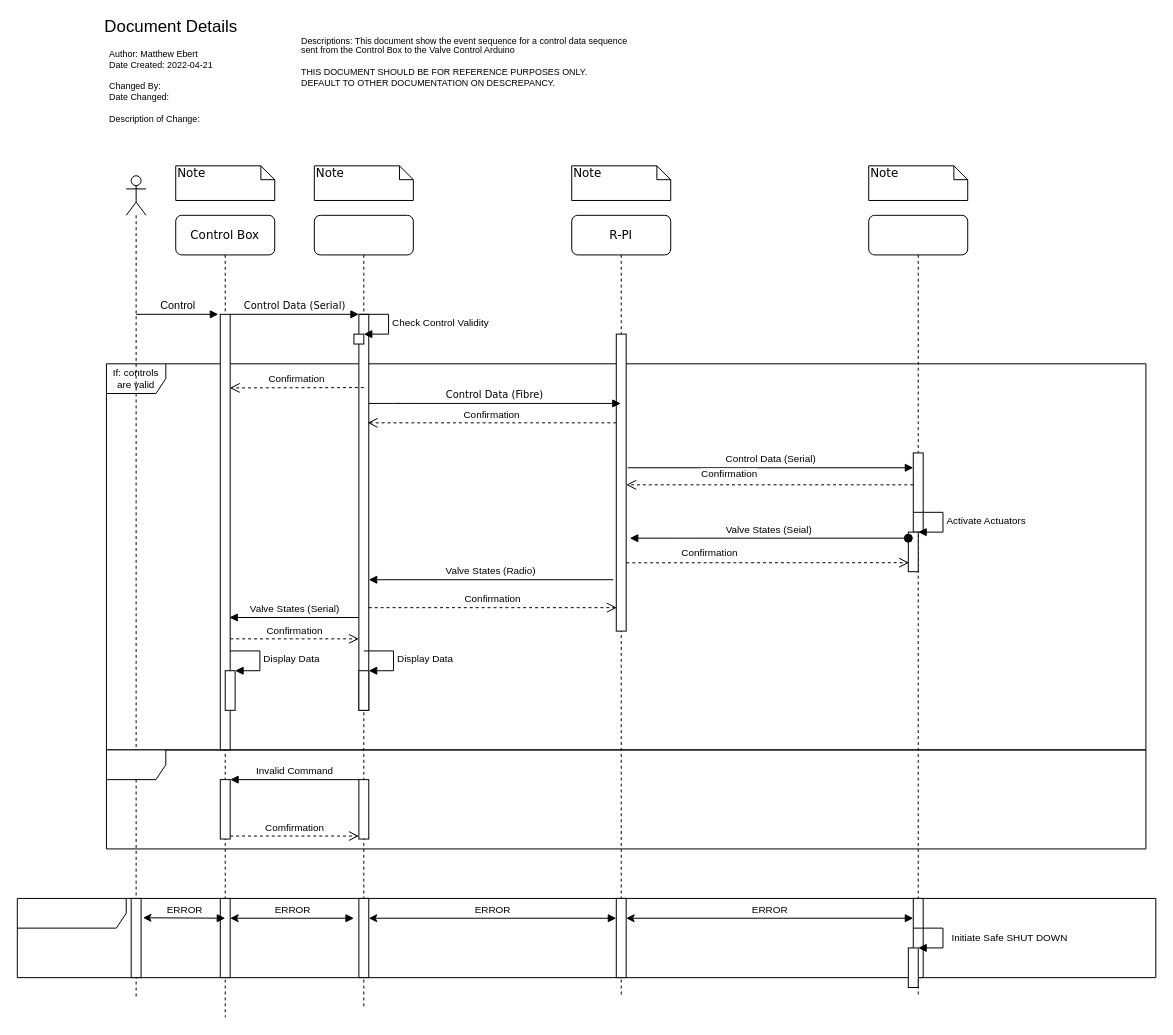
This 1173x1035 diagram has some shape labels left out. The box of each missing label's shape, as (x1, y1, x2, y2) in pixels:
else: (105, 749, 1146, 849)
If: Confirmation Fails: (16, 897, 1156, 978)
MCC: (313, 214, 413, 1007)
Valve Control Arduino: (868, 214, 968, 997)
